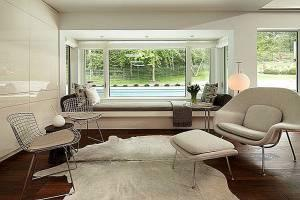window: (76, 44, 211, 99)
